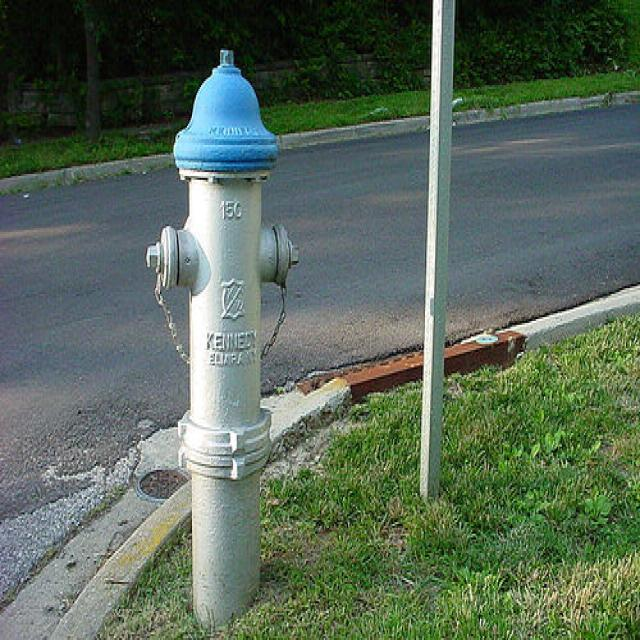fire_hydrant: (143, 42, 300, 632)
